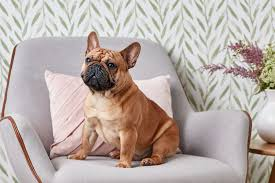Bulldog: (43, 22, 191, 170)
